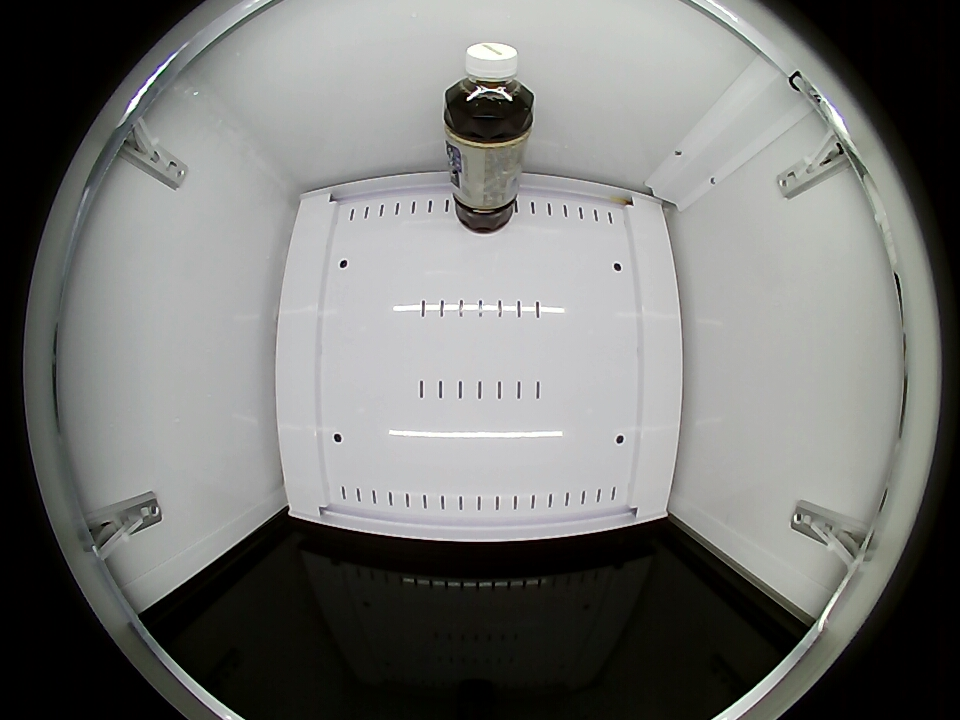wulongcha: (444, 41, 533, 132)
